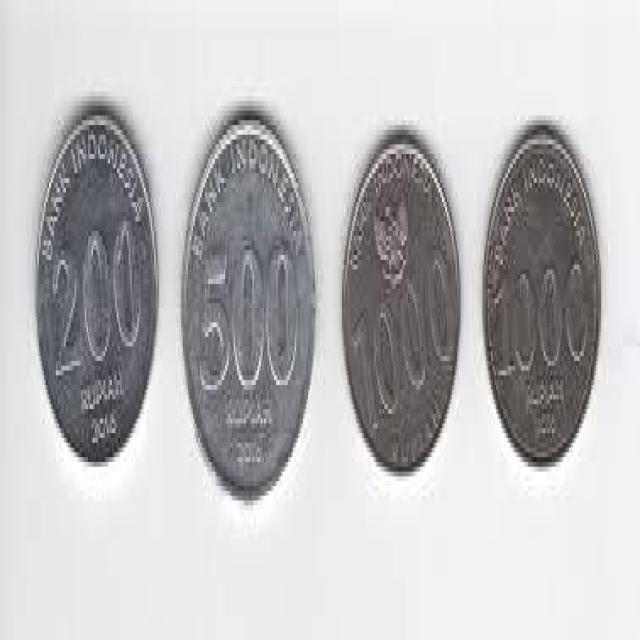500-silver: (179, 113, 322, 511)
